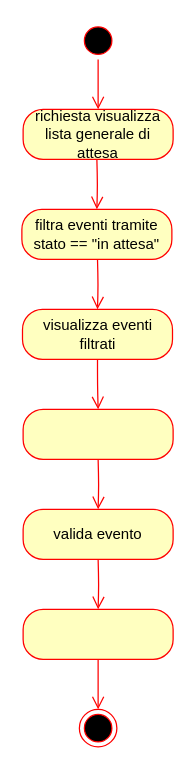
This 195x769 diagram has some shape labels left out. The centre of each missing label's shape, as x and y in pixels:
"acquisisci evento da validare" goes at (x=97, y=433).
"successo" goes at (x=97, y=633).
